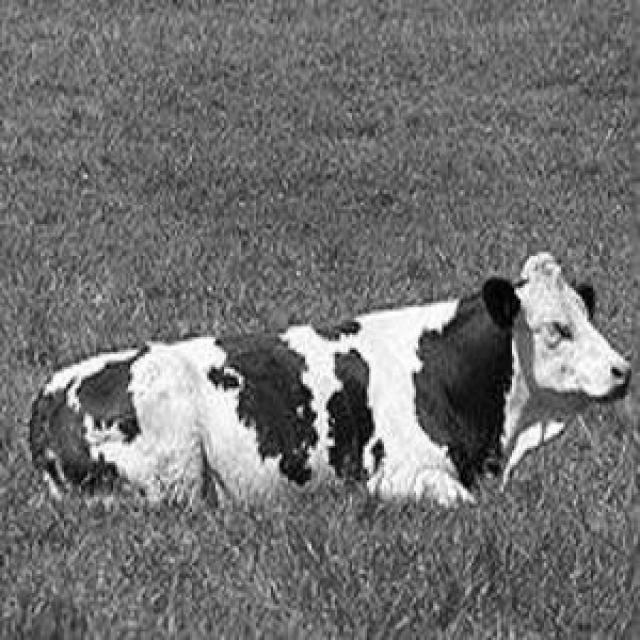cow: (32, 252, 629, 504)
